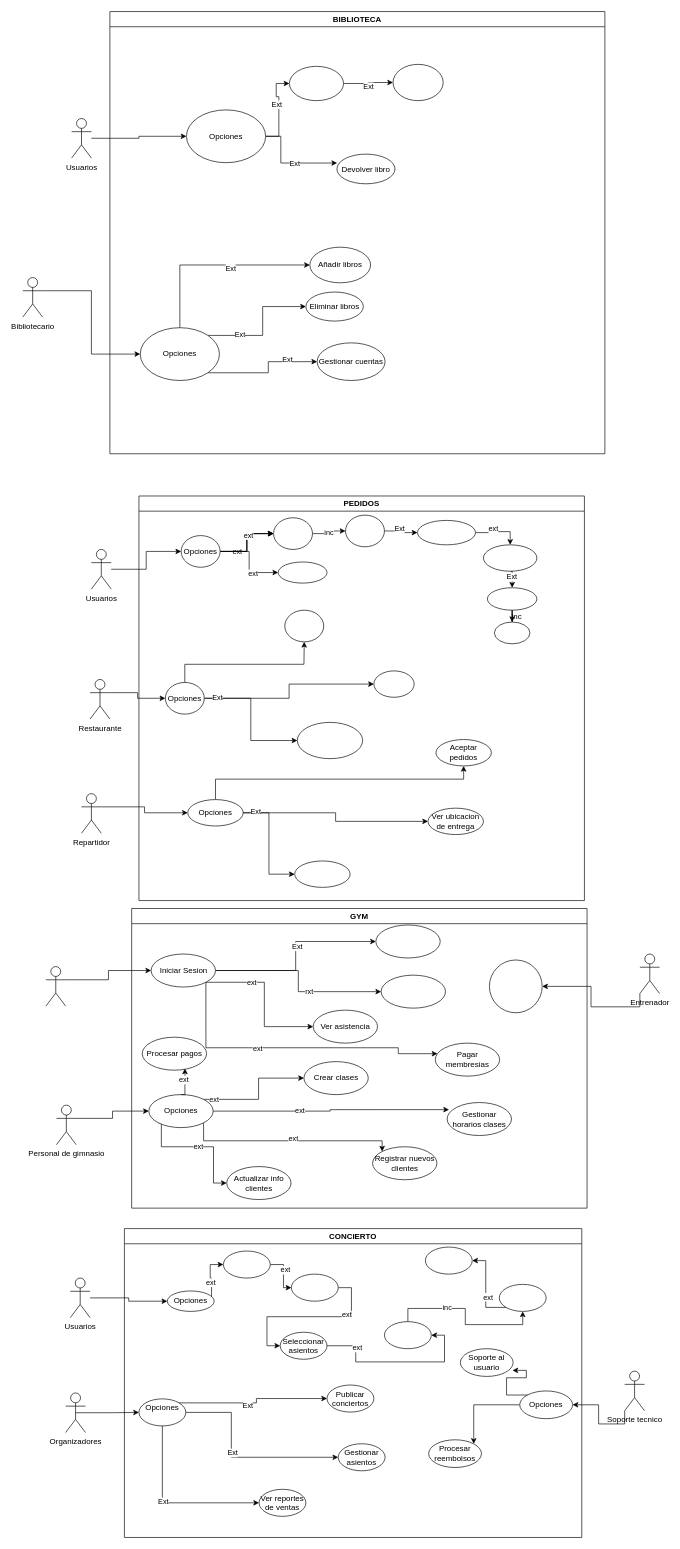
Image size: 680x1549. Some labels were removed from this diagram. The centre of each missing label's shape, as x and y in pixels:
actualizar estado de los pedidos: (330,740)
Agregar al carrito: (510,557)
Buscar conciertos: (246,1264)
Buscar libro: (316,83)
Buscar restaurante: (293,533)
Cancelar entradas: (448,1260)
Clientes: (55,986)
Comprar entradas: (407,1335)
Gestionar menu: (304,626)
Marcar como entregado: (322,873)
Pagar: (512,632)
Rastrear pedido: (302,572)
Realizar pedido: (512,598)
Recibir e-mail: (522,1297)
Registrar asistencia a clases: (515,986)
Registrarse: (407,941)
Reservar clases: (413,991)
Seleccionar plato: (446,532)
Tomar préstamo: (417,82)
Ver detalles de eventos: (314,1287)
Ver menu: (364,530)
Ver pedidos: (393,683)
